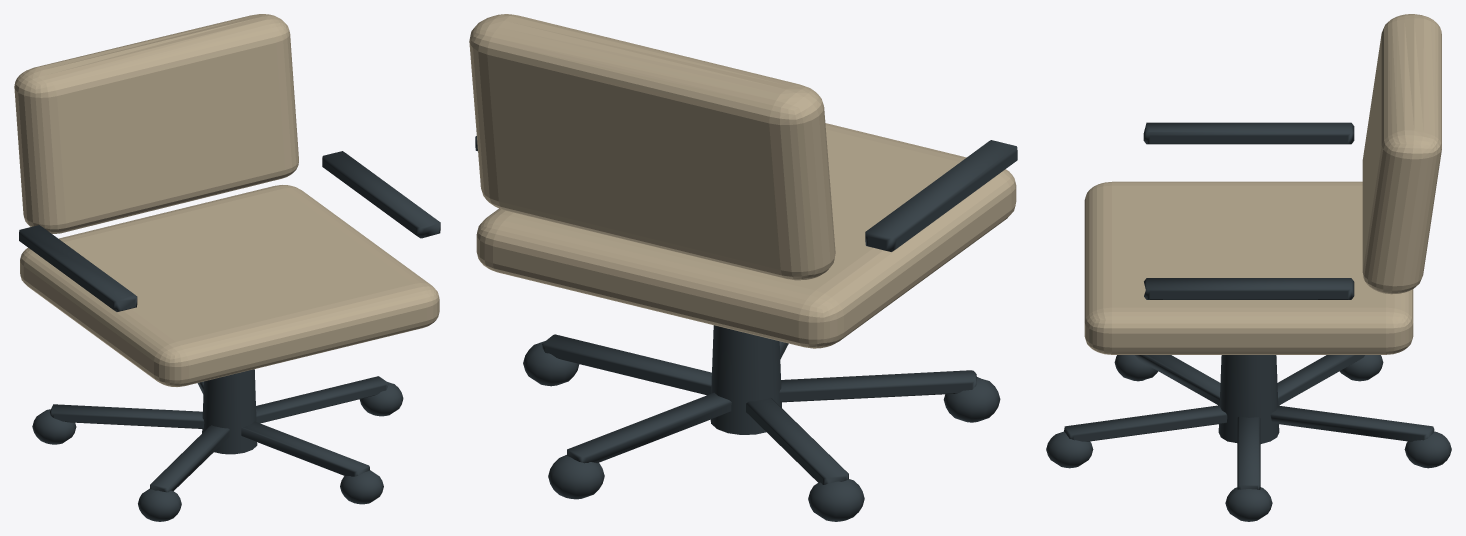
Rendered from office-task-chair.lod.glb.
3 views of the same model, side by side, from view 1: azimuth 30°, elevation 25°; view 2: azimuth 150°, elevation 25°; view 3: azimuth 270°, elevation 25° (orthographic). The views are drawn at different scales.
Parts seen in each view (by area): view 1: tailored-cushion, part; view 2: tailored-cushion, part; view 3: tailored-cushion, part.
Part boxes in pixels (x1,y1,x2,y2): tailored-cushion: [14, 14, 439, 386]; part: [19, 151, 440, 521]; tailored-cushion: [469, 14, 1016, 348]; part: [475, 136, 1017, 521]; tailored-cushion: [1084, 14, 1441, 354]; part: [1046, 122, 1451, 521].
Size of the model in its own units: 1 by 1 by 1.
